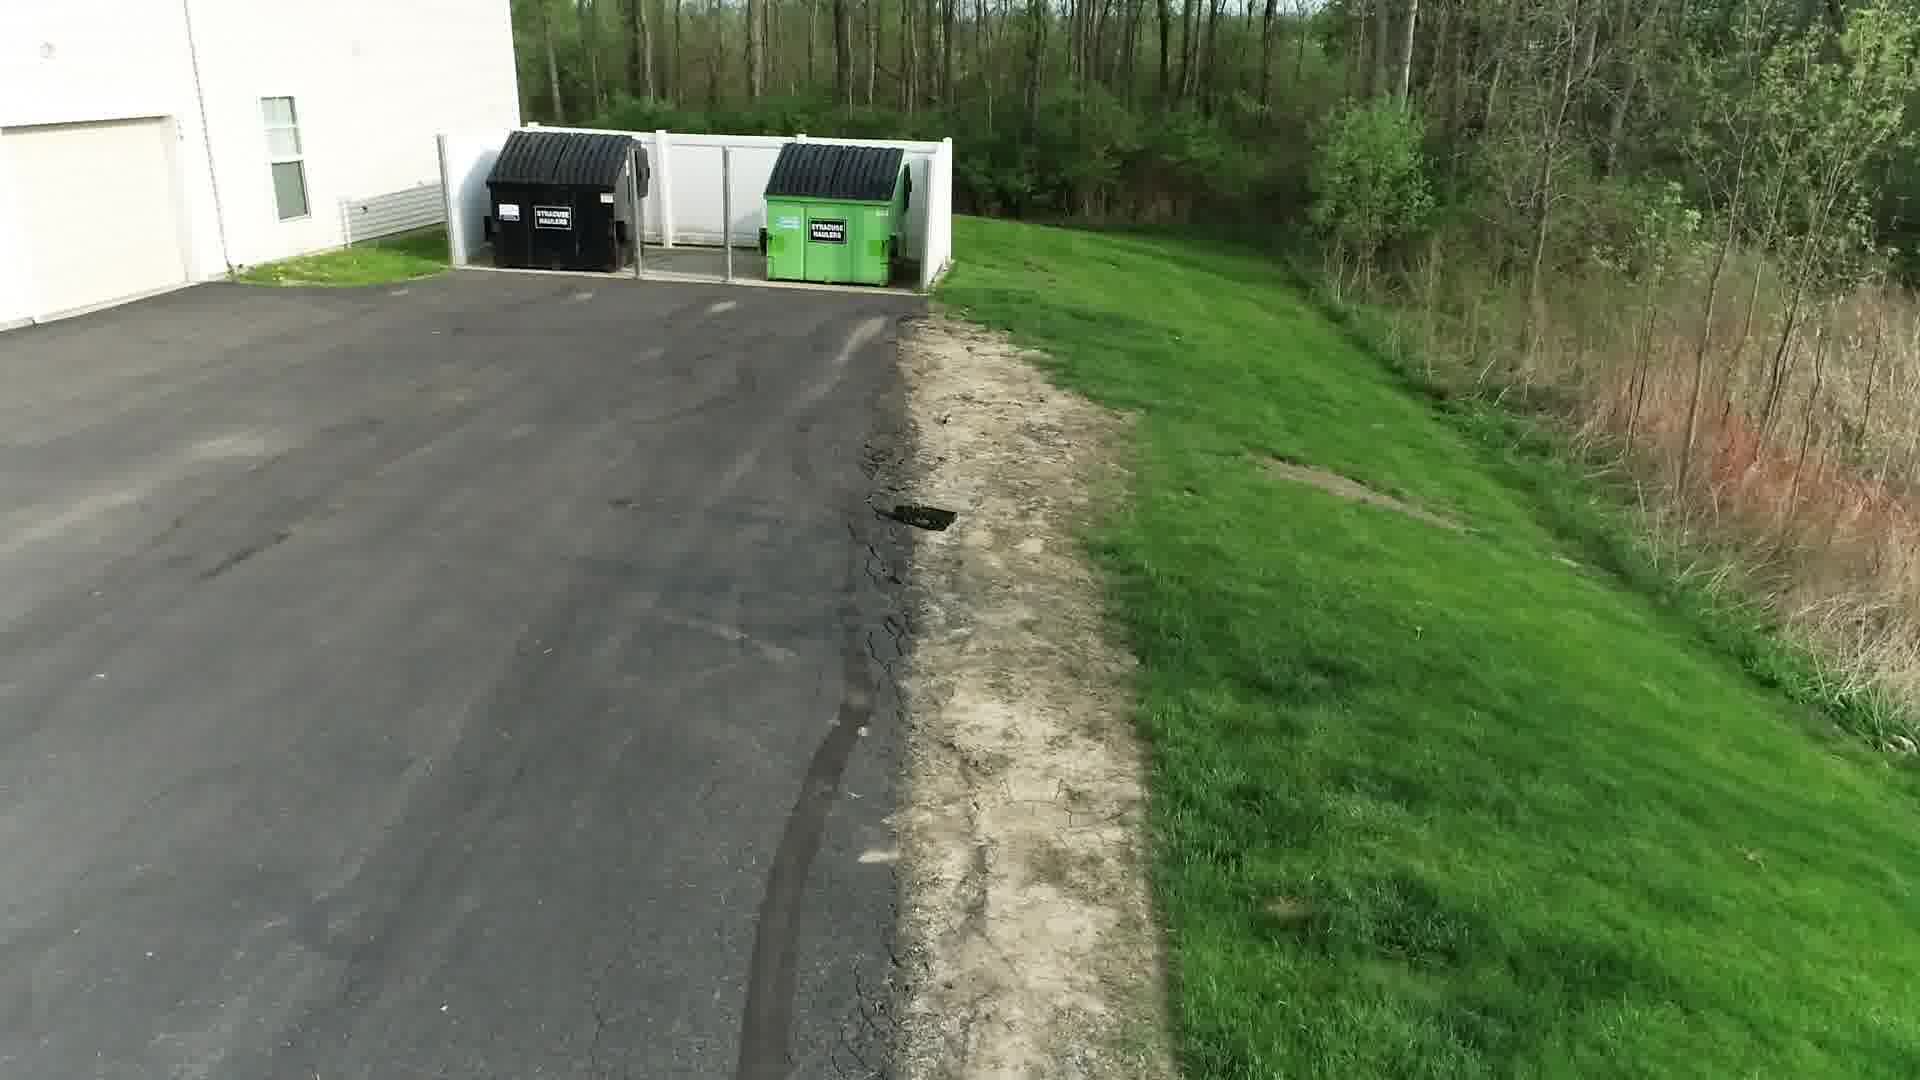transporter9: (887, 500, 961, 531)
